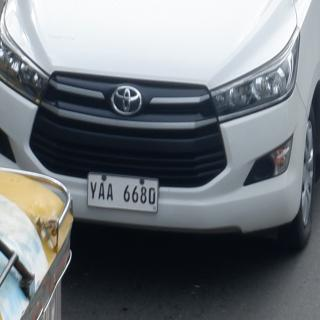license: (89, 174, 159, 213)
